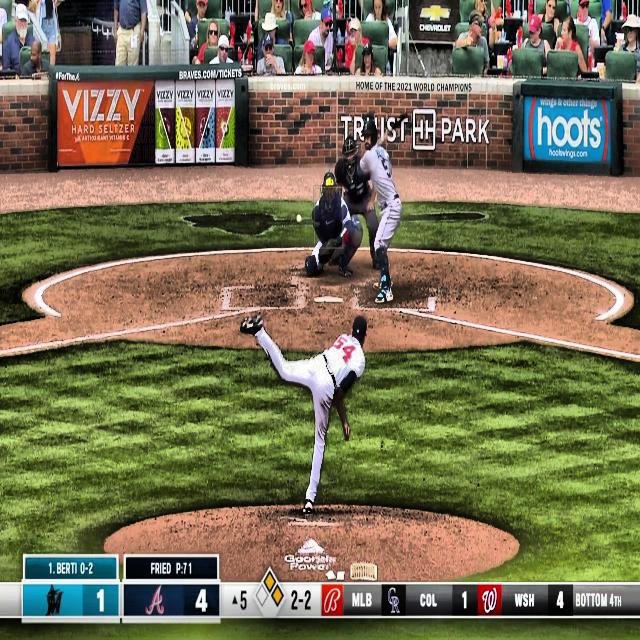baseball: (296, 214, 302, 224)
